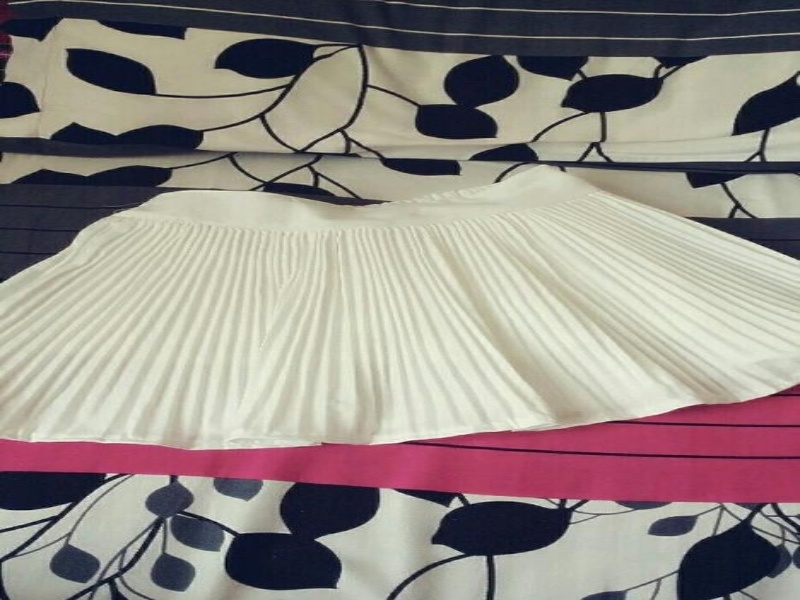skirt: (3, 162, 798, 455)
